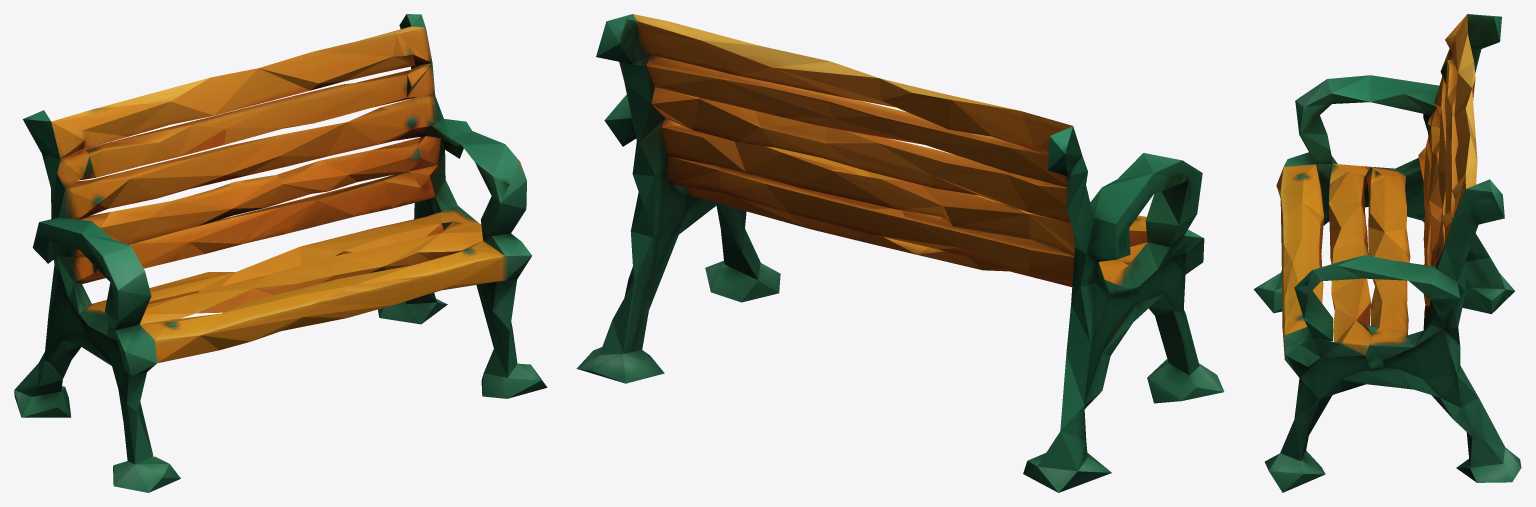
The model's file is bench.glb.
3 views of the same model, side by side, from view 1: azimuth 30°, elevation 25°; view 2: azimuth 150°, elevation 25°; view 3: azimuth 270°, elevation 25° (orthographic). The views are drawn at different scales.
Visible parts, largest first — view 1: geometry_0; view 2: geometry_0; view 3: geometry_0.
Boxes of the visible parts, box(x1,y1,x2,y2) form: geometry_0: box(14, 14, 547, 492); geometry_0: box(576, 14, 1224, 492); geometry_0: box(1253, 14, 1521, 492).
Size of the model in its own units: 0.9971 by 0.6674 by 0.5457.
1 material, 1 textured.
